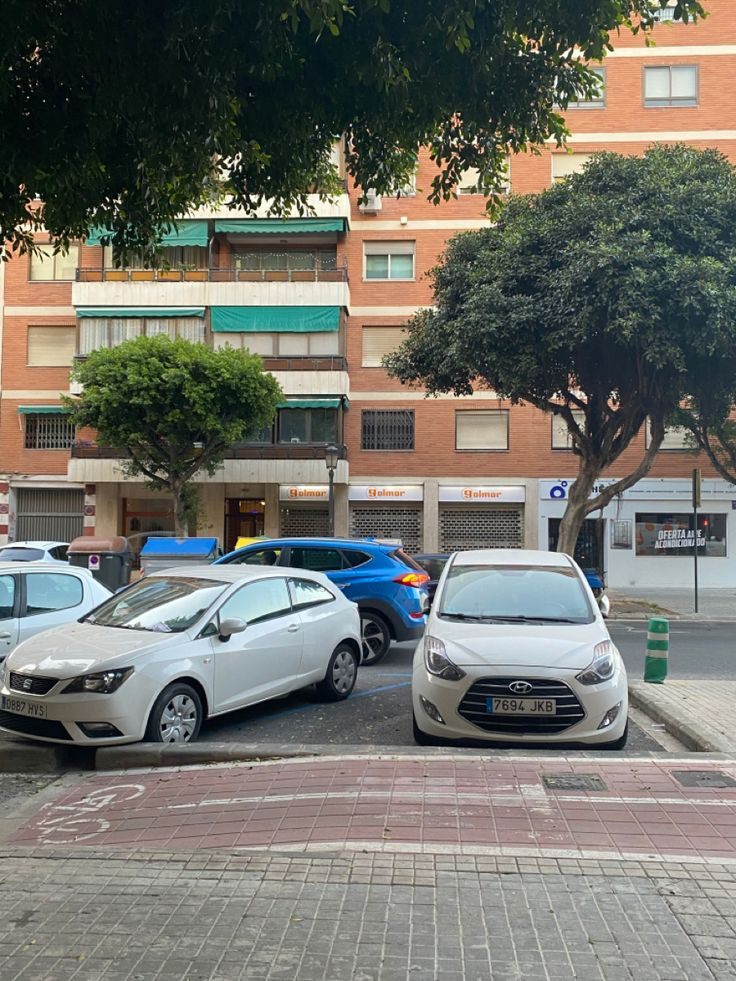car: (1, 562, 354, 760), (420, 540, 630, 761), (229, 527, 431, 645), (1, 561, 112, 660), (5, 532, 69, 565)
